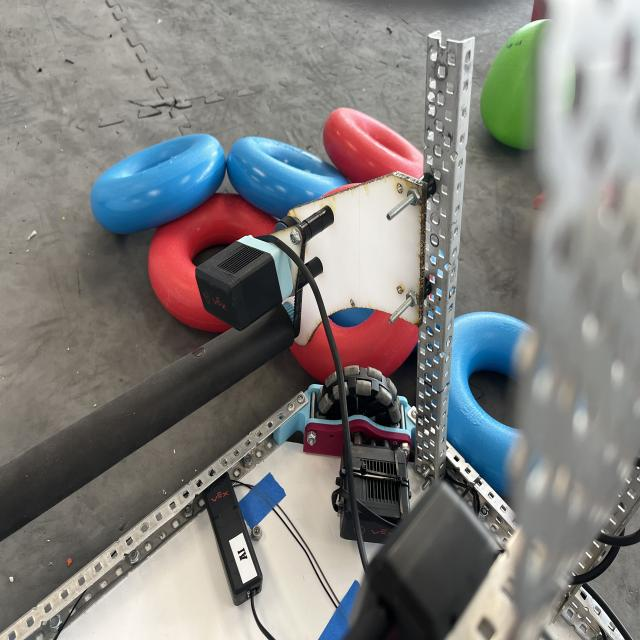Blue-Ring: (448, 312, 529, 495), (90, 133, 226, 233), (226, 137, 348, 218)
Red-Ring: (149, 193, 276, 333), (294, 288, 421, 375), (324, 108, 424, 183)
